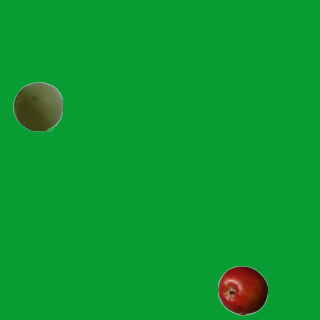Apple Braeburn: (217, 265, 267, 315)
Grape White 4: (12, 81, 62, 131)
